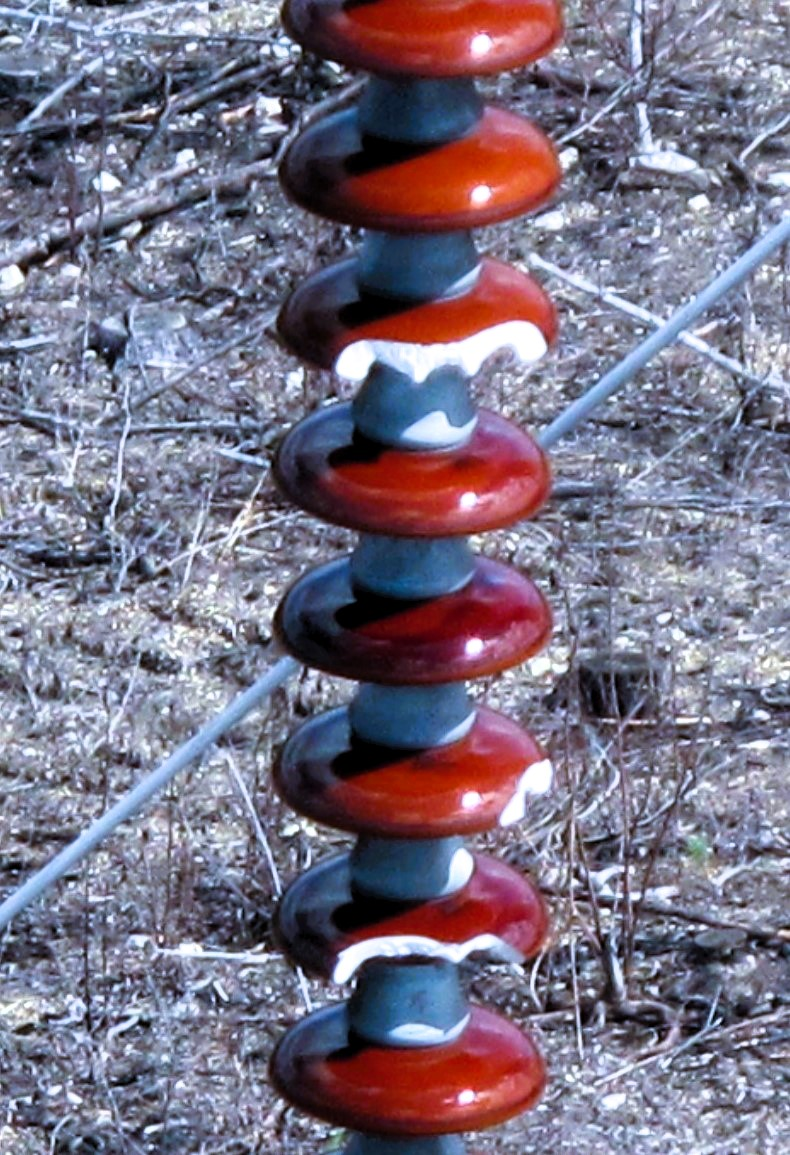insulator breakage: (270, 715, 562, 992), (276, 258, 559, 390)
